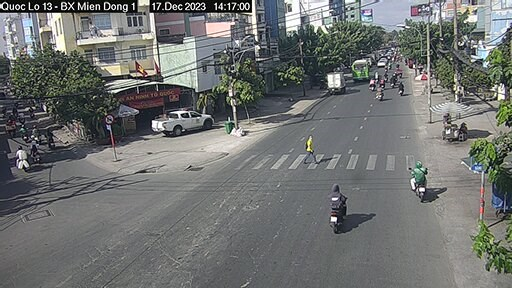bus: (350, 58, 370, 84)
car: (151, 110, 216, 139)
motorbike: (327, 183, 349, 233), (412, 164, 432, 203), (374, 85, 387, 100)
truck: (326, 70, 346, 96)
